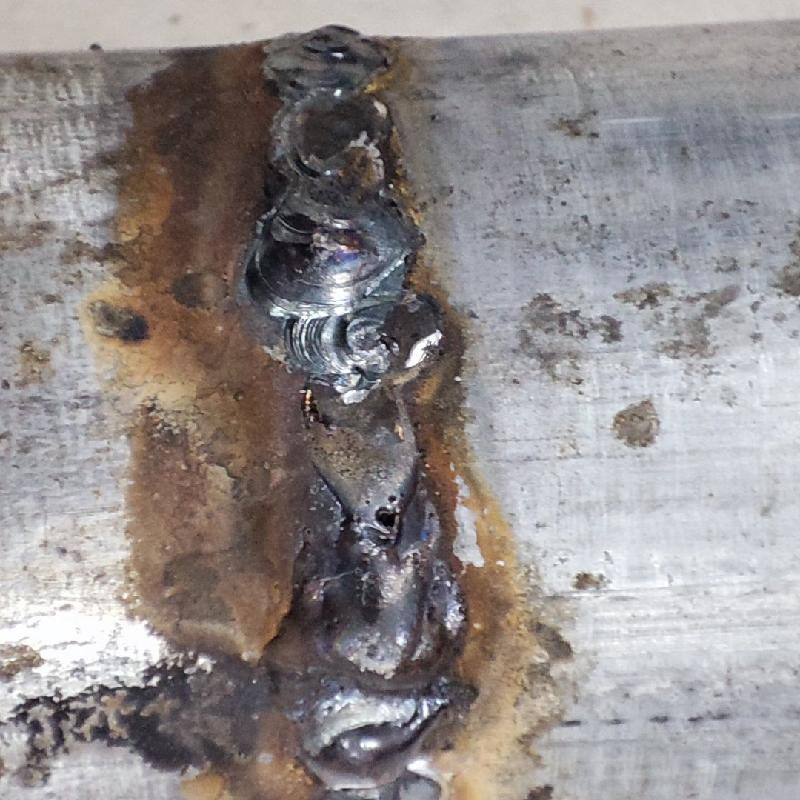Not_fully_soldered: (277, 310, 432, 543)
Surface_pores: (351, 485, 416, 540)
Weld: (276, 544, 468, 793)
wrong_size: (236, 15, 420, 306)
